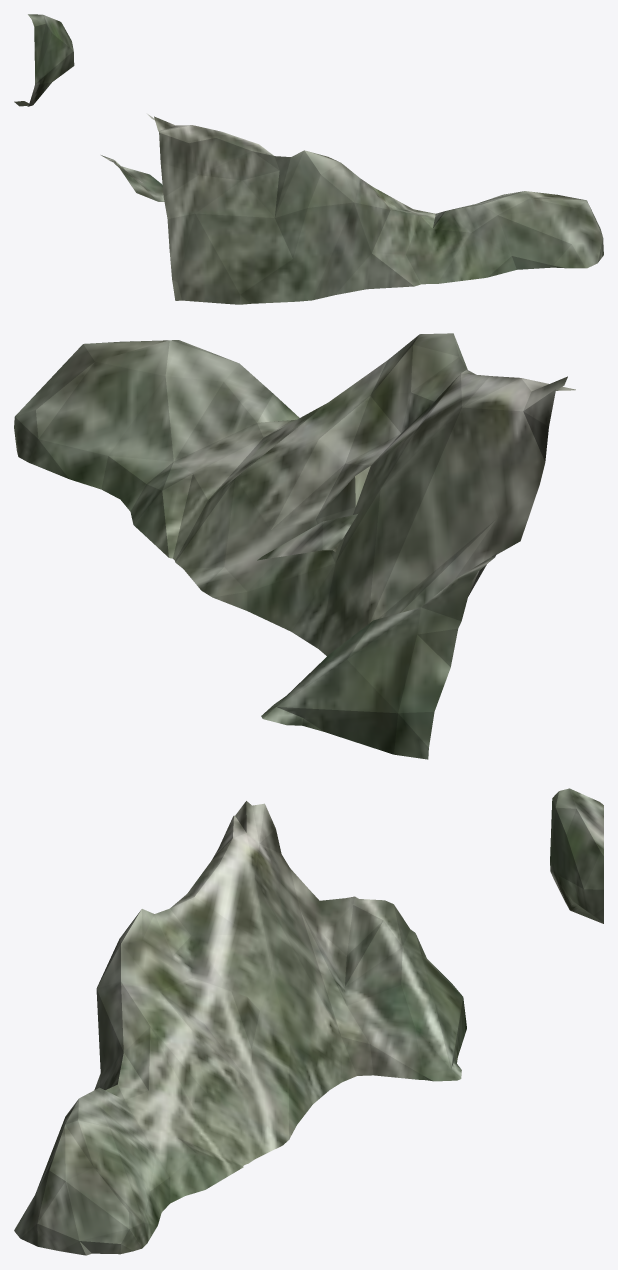
3 views of the same model, one above another, from view 1: azimuth 30°, elevation 25°; view 2: azimuth 150°, elevation 25°; view 3: azimuth 270°, elevation 25° (orthographic). The views are drawn at different scales.
Bounding box in the file's own units: 1.56 × 0.6951 × 1.63.
1 material, 1 textured.
